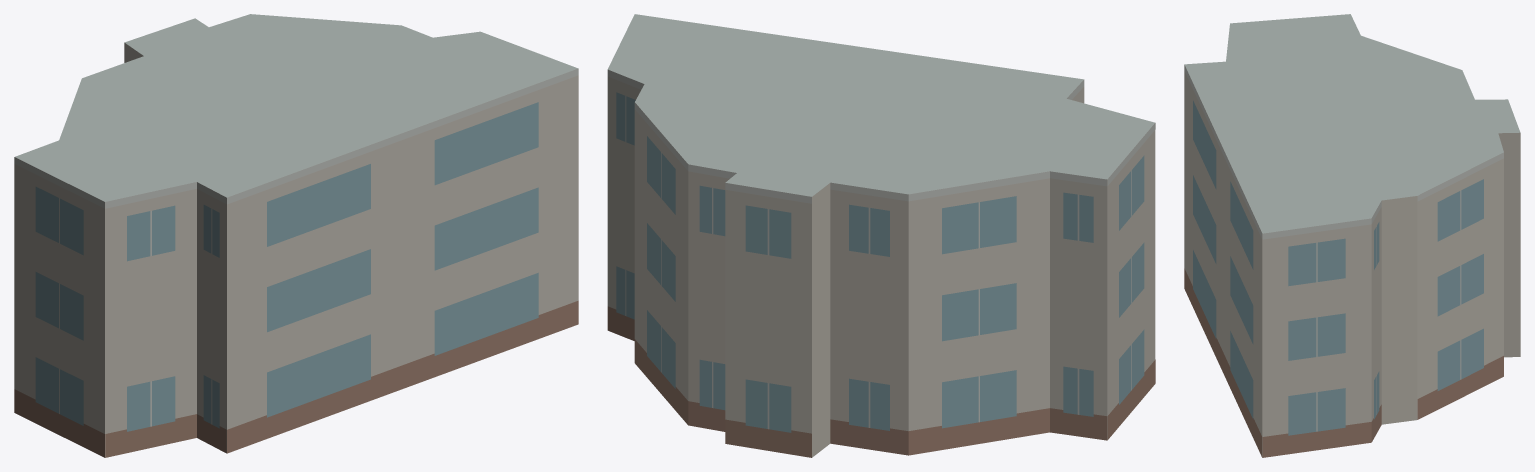
The model's file is survey-upis-32592283.glb.
The picture shows the model from 3 angles, left to right: view 1: azimuth 30°, elevation 25°; view 2: azimuth 150°, elevation 25°; view 3: azimuth 270°, elevation 25°; orthographic projection. The views are drawn at different scales.
Parts seen in each view (by area): view 1: survey-upis-32592283.tmp; view 2: survey-upis-32592283.tmp; view 3: survey-upis-32592283.tmp.
Part boxes in pixels (x1,y1,x2,y2): survey-upis-32592283.tmp: (14,14,578,457); survey-upis-32592283.tmp: (607,14,1155,457); survey-upis-32592283.tmp: (1184,14,1520,457).
Size of the model in its own units: 19.24 by 9.15 by 12.44.
